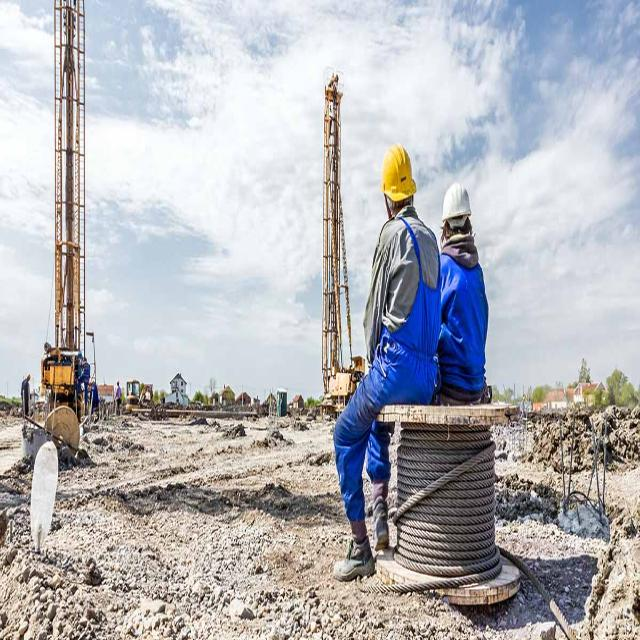Boots: (336, 530, 378, 590), (367, 498, 391, 550)
Hard Hat: (380, 136, 418, 206), (440, 180, 477, 230)
